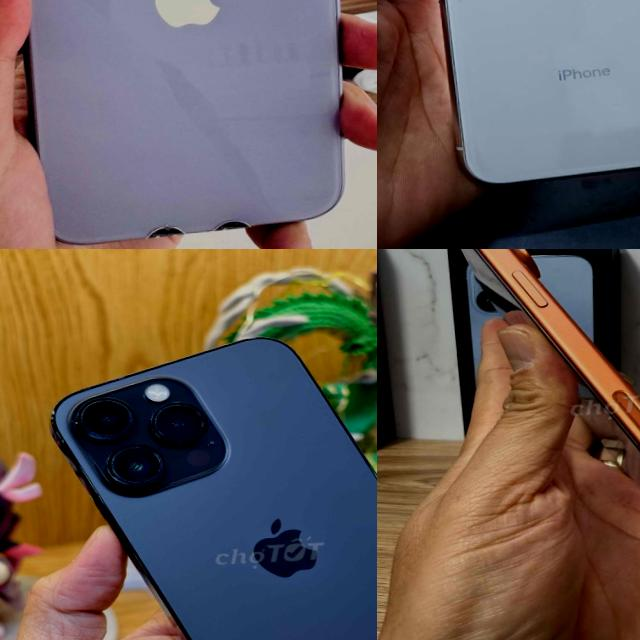gen_11: (0, 0, 372, 249)
gen_14: (50, 325, 377, 640)
gen_17: (433, 249, 640, 589)
gen_x_xs: (412, 0, 640, 186)
